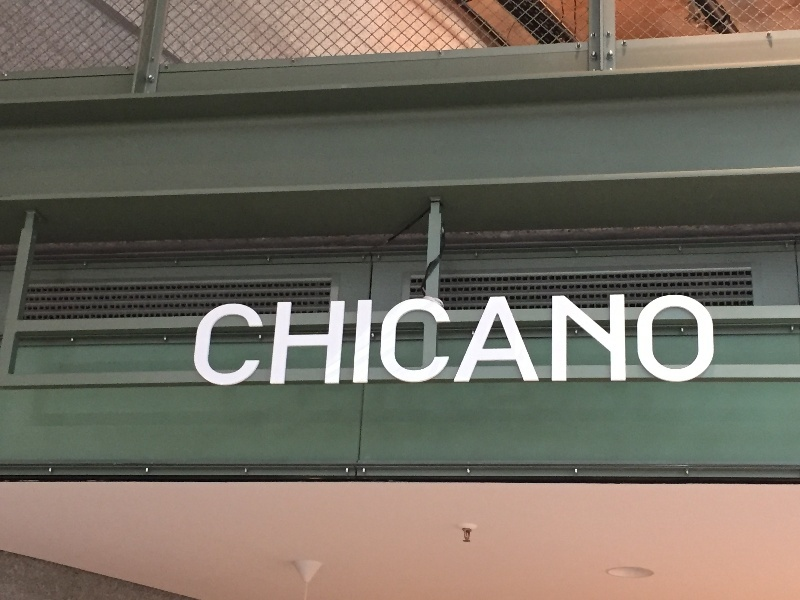text: (209, 290, 224, 389), (225, 290, 240, 389), (241, 290, 256, 389), (257, 290, 272, 389), (273, 290, 288, 389), (289, 290, 304, 389), (305, 290, 320, 389), (321, 290, 336, 389), (337, 290, 352, 389), (353, 290, 368, 389), (369, 290, 384, 389), (385, 290, 400, 389), (401, 290, 416, 389), (417, 290, 432, 389), (433, 290, 448, 389), (449, 290, 464, 389), (465, 290, 480, 389), (481, 290, 496, 389), (497, 290, 512, 389), (513, 290, 528, 389), (529, 290, 544, 389), (545, 290, 560, 389), (561, 290, 576, 389), (577, 290, 592, 389), (593, 290, 608, 389), (609, 290, 624, 389), (625, 290, 640, 389), (641, 290, 656, 389), (657, 290, 672, 389), (673, 290, 688, 389), (689, 290, 704, 389), (705, 290, 716, 389), (199, 290, 208, 389)
